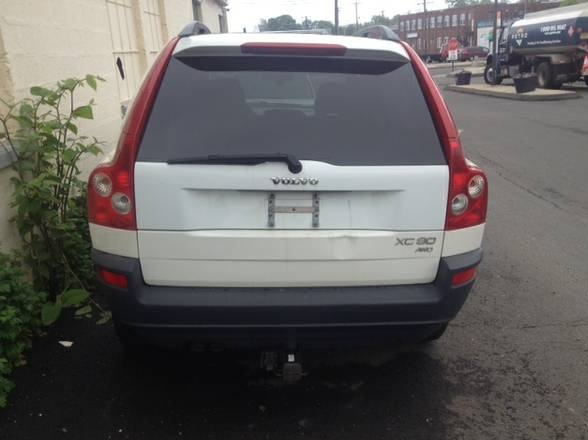volvo: (50, 12, 548, 378)
